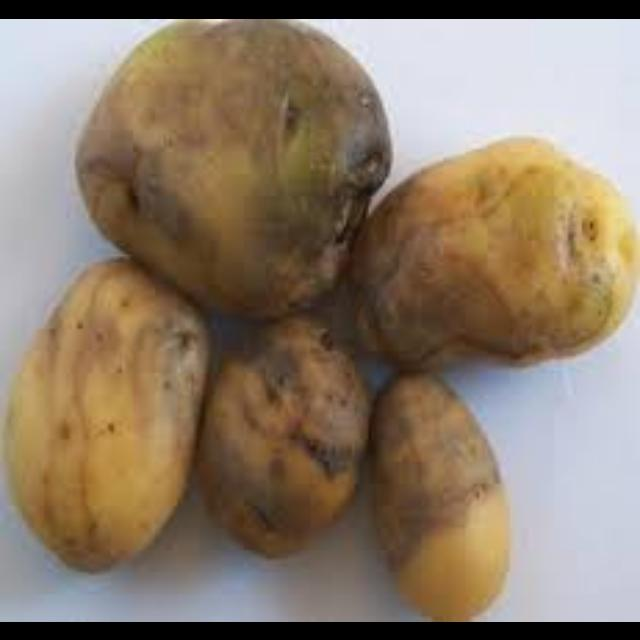Defected potato: (72, 18, 386, 336), (342, 126, 640, 384), (1, 242, 198, 580), (357, 358, 531, 622), (204, 293, 372, 561)
